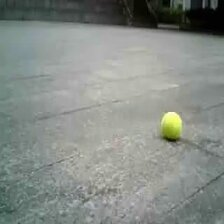tennis: (161, 112, 182, 138)
